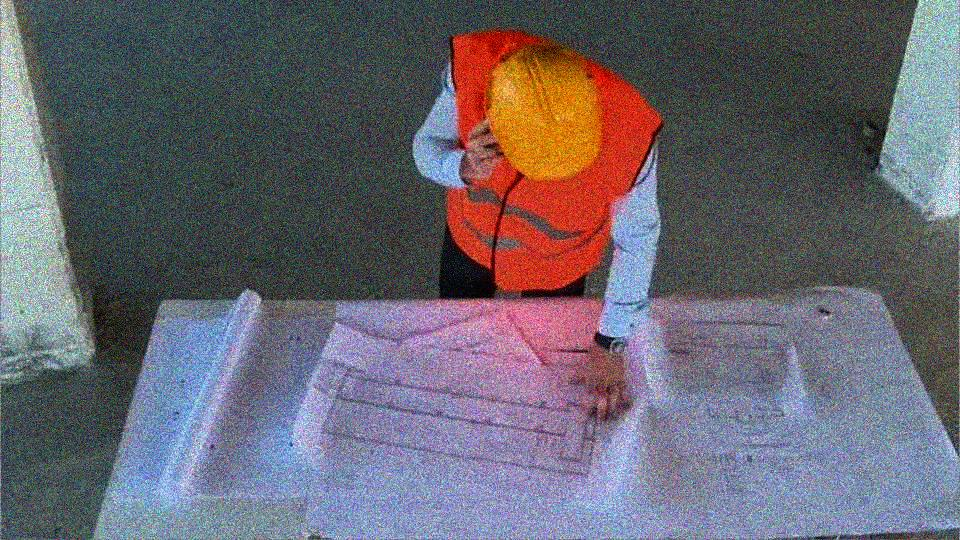helmet: (484, 43, 608, 190)
